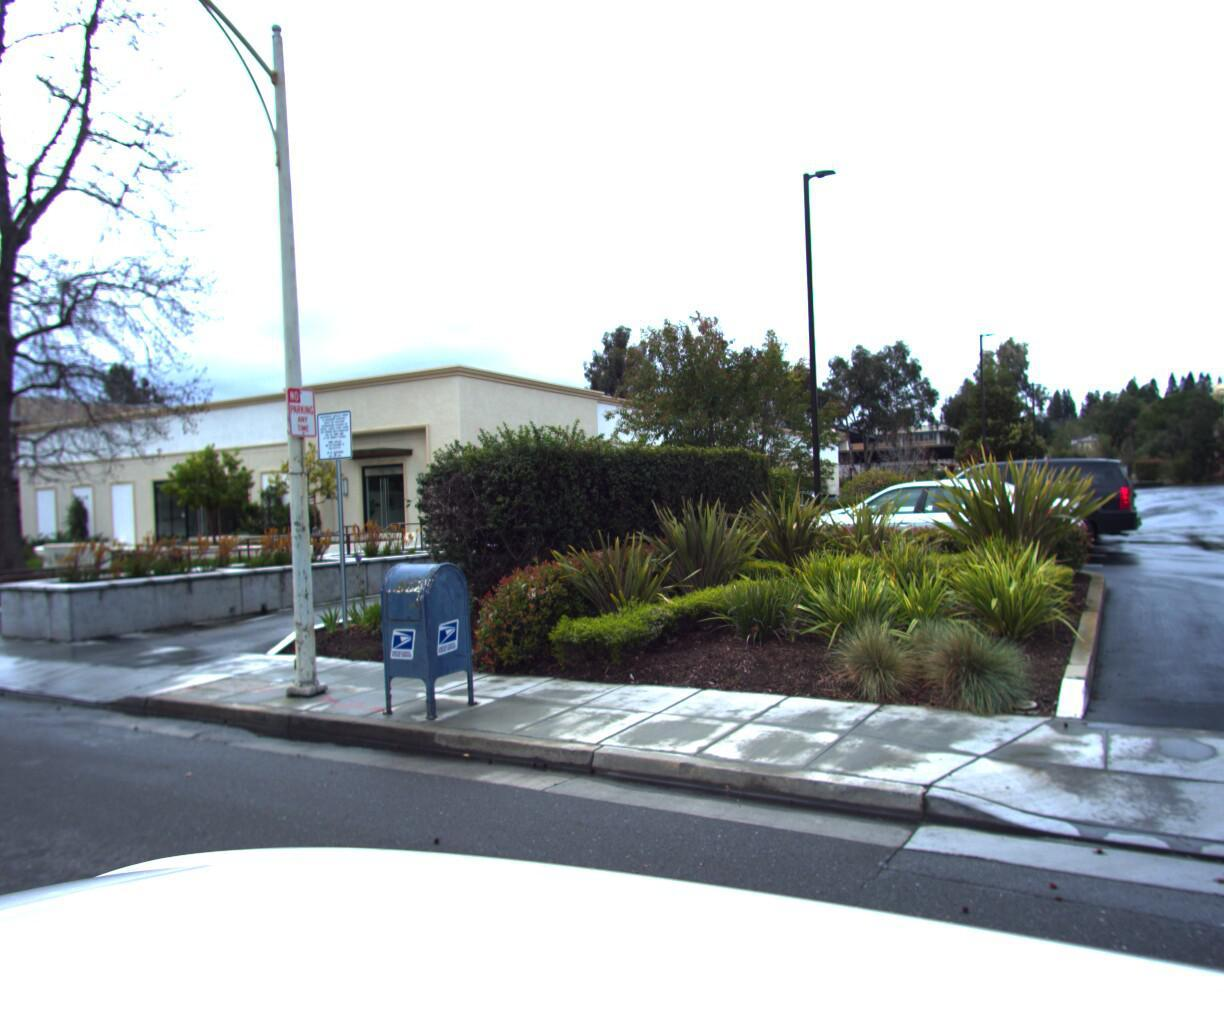car: (788, 469, 1070, 574)
